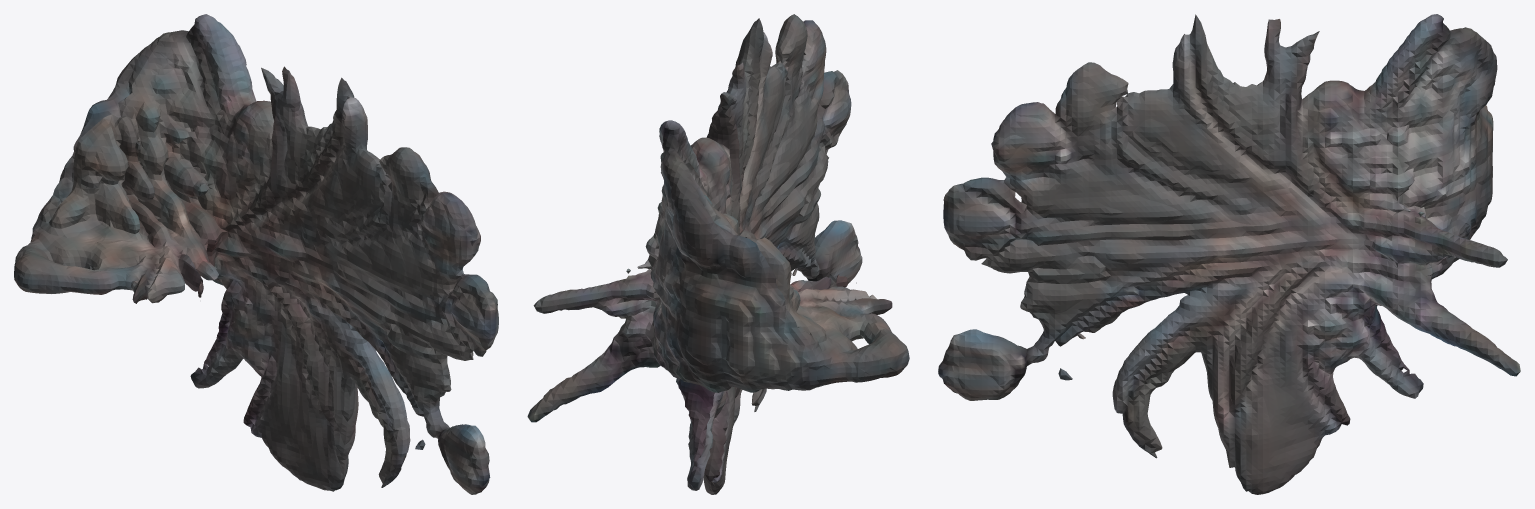
3 views of the same model, side by side, from view 1: azimuth 30°, elevation 25°; view 2: azimuth 150°, elevation 25°; view 3: azimuth 270°, elevation 25° (orthographic). The views are drawn at different scales.
Bounding box in the file's own units: 0.4661 × 0.6313 × 0.707.
